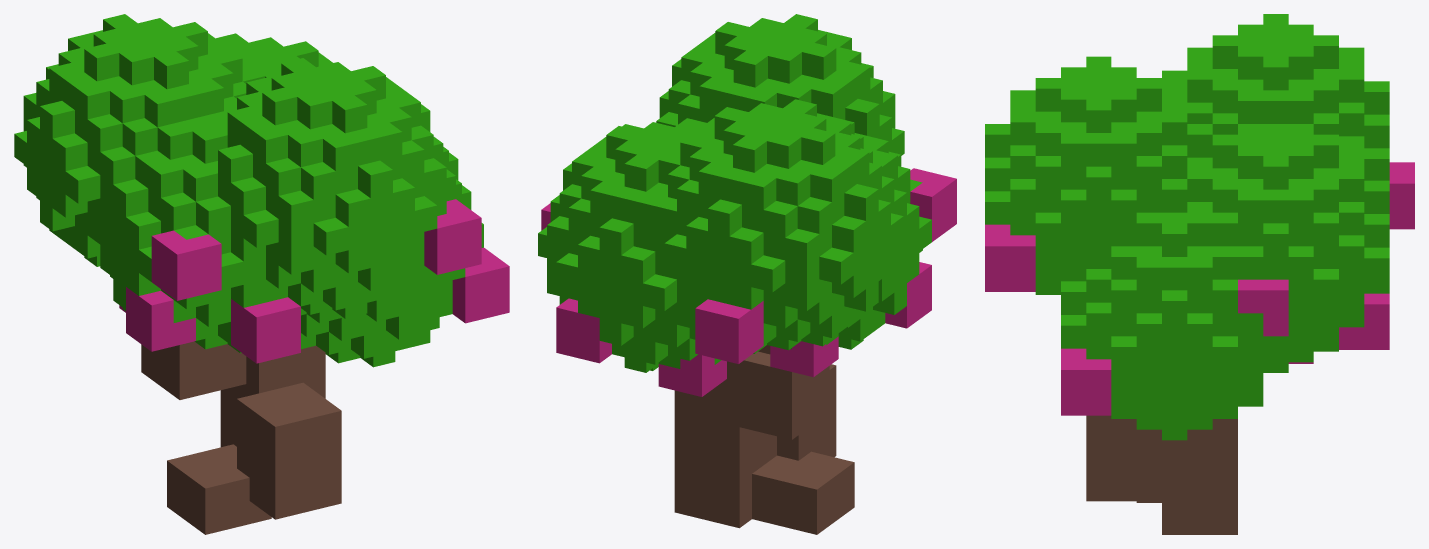
The model's file is bush1Fruit.obj.
3 renders of one model, left to right at view 1: azimuth 30°, elevation 25°; view 2: azimuth 150°, elevation 25°; view 3: azimuth 270°, elevation 25°, orthographic. The views are drawn at different scales.
Size of the model in its own units: 16 by 19 by 17.
1 material, 1 textured.
